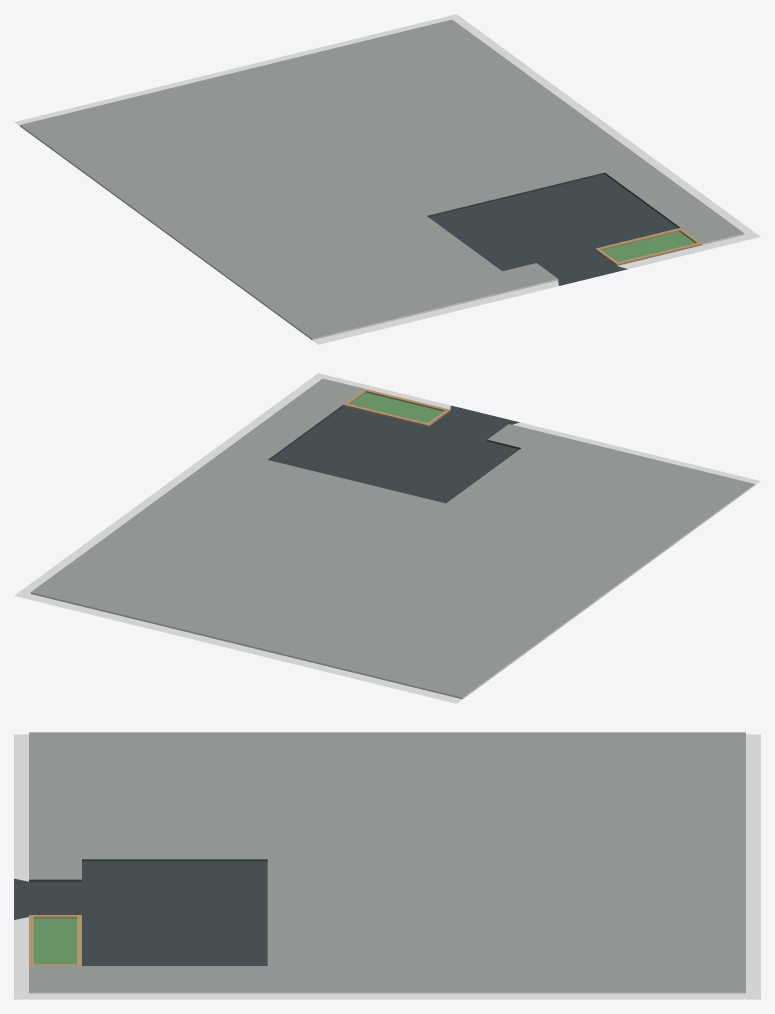
The model's file is police_plane.fbx.
The picture shows the model from 3 angles, top to bottom: view 1: azimuth 30°, elevation 25°; view 2: azimuth 150°, elevation 25°; view 3: azimuth 270°, elevation 25°; orthographic projection. The views are drawn at different scales.
Visible parts, largest first — view 1: Plane; view 2: Plane; view 3: Plane.
Part boxes in pixels (left/top/right/bottom): Plane: left=14, top=14, right=760, bottom=344; Plane: left=14, top=373, right=760, bottom=703; Plane: left=14, top=732, right=760, bottom=999.
Size of the model in its own units: 8400 by 30 by 10000.
